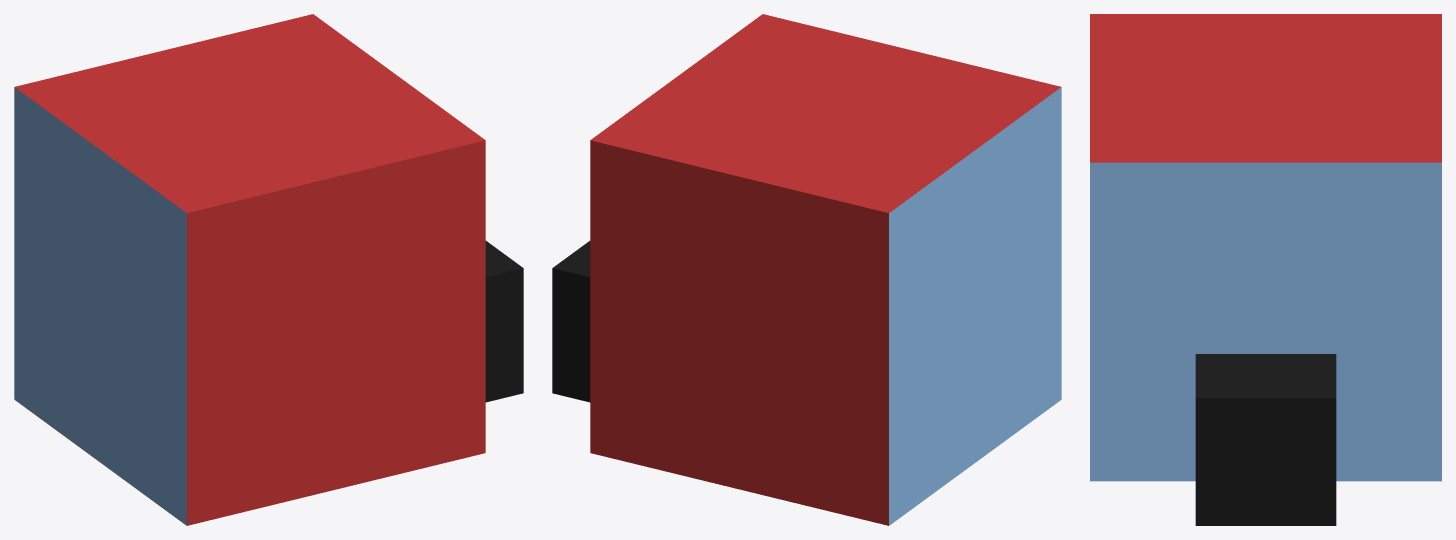
The model's file is Rover.fbx.
3 views of the same model, side by side, from view 1: azimuth 30°, elevation 25°; view 2: azimuth 150°, elevation 25°; view 3: azimuth 270°, elevation 25° (orthographic).
Parts seen in each view (by area): view 1: Body, Wheel; view 2: Body, Wheel; view 3: Body, Wheel.
Part boxes in pixels (x1,y1,x2,y2): Body: [14, 14, 485, 525]; Wheel: [485, 241, 523, 402]; Body: [590, 14, 1061, 525]; Wheel: [552, 241, 590, 402]; Body: [1090, 14, 1441, 481]; Wheel: [1195, 354, 1336, 525].
Size of the model in its own units: 1.3 by 1 by 1.
